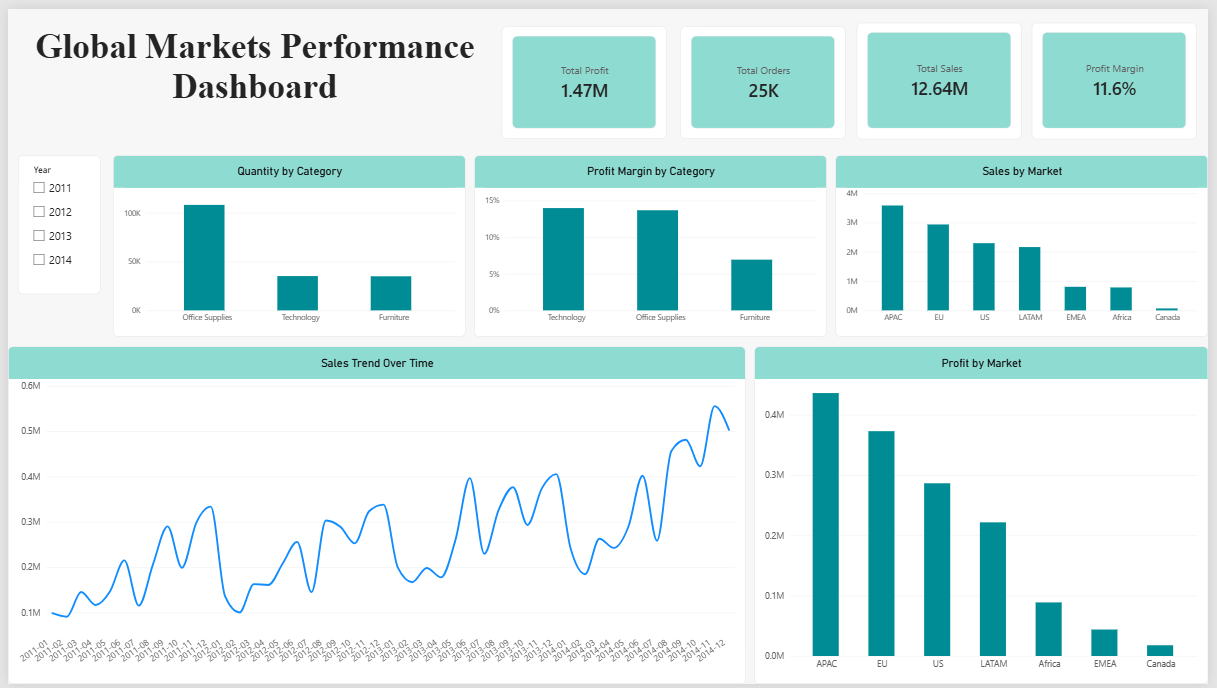

What the dashboard file says about the page in this screenshot:
{"tool":"powerbi","page":{"name":"Overview","canvas":[1920,1080],"ordinal":0},"visuals":[{"type":"cardVisual","fields":{"Data":["SalesData.Total Sales"]},"box":[1358,22,264,186],"z":0},{"type":"cardVisual","fields":{"Data":["SalesData.Total Profit"]},"box":[790,28,264,180],"z":1},{"type":"cardVisual","fields":{"Data":["SalesData.Total Orders"]},"box":[1076,28,264,180],"z":2},{"type":"cardVisual","fields":{"Data":["SalesData.Profit Margin"]},"box":[1638,22,264,186],"z":3},{"type":"lineChart","title":"Sales Trend Over Time","fields":{"Category":["DateTable.Year Month"],"Y":["SalesData.Total Sales"]},"box":[0,540,1180,540],"z":4},{"type":"clusteredColumnChart","title":"Sales by Market","fields":{"Category":["SalesData.Market"],"Y":["SalesData.Total Sales"]},"box":[1324,234,596,290],"z":5},{"type":"clusteredColumnChart","title":"Profit by Market","fields":{"Category":["SalesData.Market"],"Y":["SalesData.Total Profit"]},"box":[1194,540,726,540],"z":6},{"type":"clusteredColumnChart","title":"Quantity by Category","fields":{"Category":["SalesData.Category"],"Y":["SalesData.Total Quantity"]},"box":[168,234,564,290],"z":7},{"type":"clusteredColumnChart","title":"Profit Margin by Category","fields":{"Category":["SalesData.Category"],"Y":["SalesData.Profit Margin"]},"box":[746,234,564,290],"z":8},{"type":"slicer","fields":{"Values":["DateTable.Year"]},"box":[16,234,132,222],"z":9},{"type":"textbox","box":[0,28,790,180],"z":10}]}

Visuals, with their boxes in screenshot pixels (x1, y1, x2, y2), scaled from the page's 1920x1080 canvas onto the 1217x688 screenshot:
cardVisual - SalesData.Total Sales: 861,14,1028,133
cardVisual - SalesData.Total Profit: 501,18,668,133
cardVisual - SalesData.Total Orders: 682,18,849,133
cardVisual - SalesData.Profit Margin: 1038,14,1206,133
"Sales Trend Over Time" lineChart: 0,344,748,687
"Sales by Market" clusteredColumnChart: 839,149,1216,334
"Profit by Market" clusteredColumnChart: 757,344,1216,687
"Quantity by Category" clusteredColumnChart: 106,149,464,334
"Profit Margin by Category" clusteredColumnChart: 473,149,830,334
slicer - DateTable.Year: 10,149,94,290
textbox: 0,18,501,133
